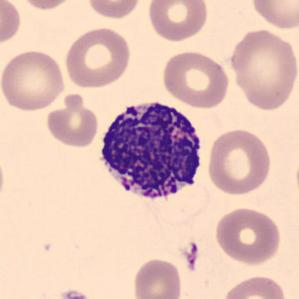Basophil: (90, 93, 208, 212)
Platelets: (52, 287, 98, 299)
RBC: (228, 26, 298, 113), (204, 126, 273, 197), (62, 24, 133, 90), (0, 47, 68, 113), (160, 48, 231, 110), (213, 205, 283, 266), (144, 175, 214, 230), (44, 93, 100, 149), (145, 0, 209, 43), (131, 256, 184, 299), (221, 272, 289, 299), (248, 0, 299, 31), (85, 0, 143, 21), (0, 0, 23, 46), (16, 0, 79, 12), (0, 152, 6, 208)
